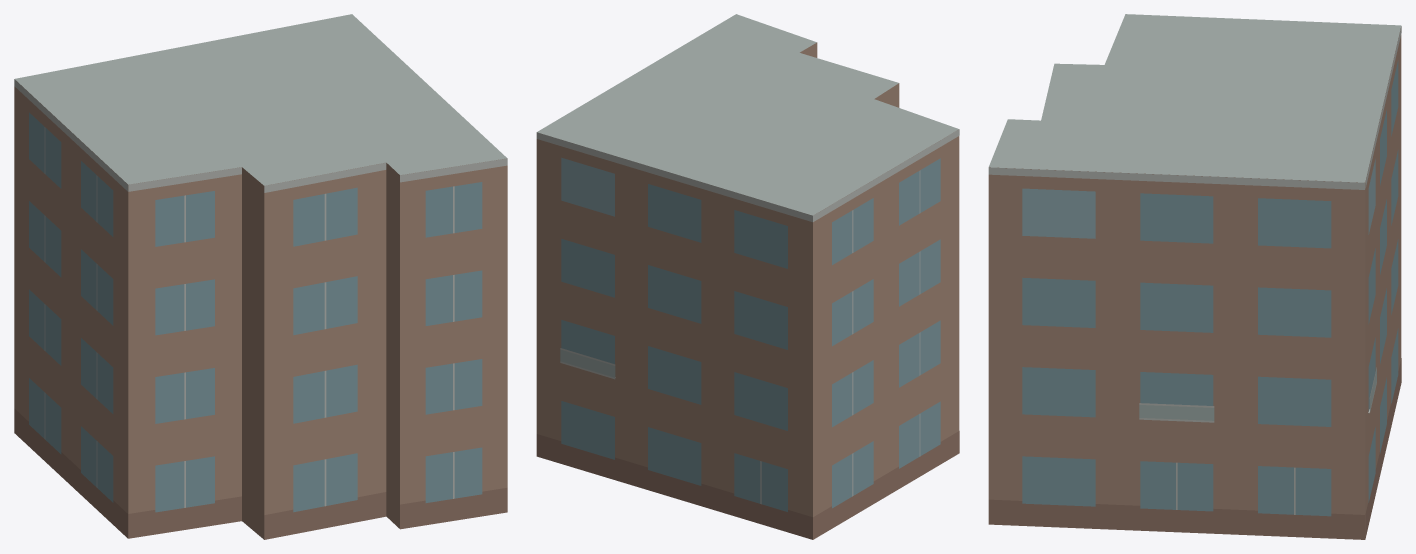
Rendered from survey-upis-32920341.glb.
3 views of the same model, side by side, from view 1: azimuth 30°, elevation 25°; view 2: azimuth 150°, elevation 25°; view 3: azimuth 270°, elevation 25° (orthographic). The views are drawn at different scales.
Visible parts, largest first — view 1: survey-upis-32920341.tmp; view 2: survey-upis-32920341.tmp; view 3: survey-upis-32920341.tmp.
Boxes of the visible parts, box(x1,y1,x2,y2) form: survey-upis-32920341.tmp: box(14, 14, 507, 539); survey-upis-32920341.tmp: box(536, 14, 959, 539); survey-upis-32920341.tmp: box(988, 14, 1401, 539).
Size of the model in its own units: 12.07 by 11.9 by 12.48.
